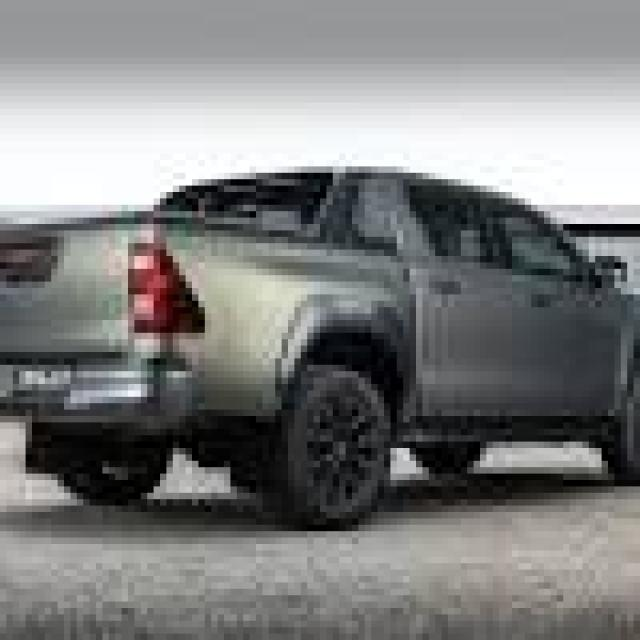Pickup Trucks: (6, 160, 640, 531)
